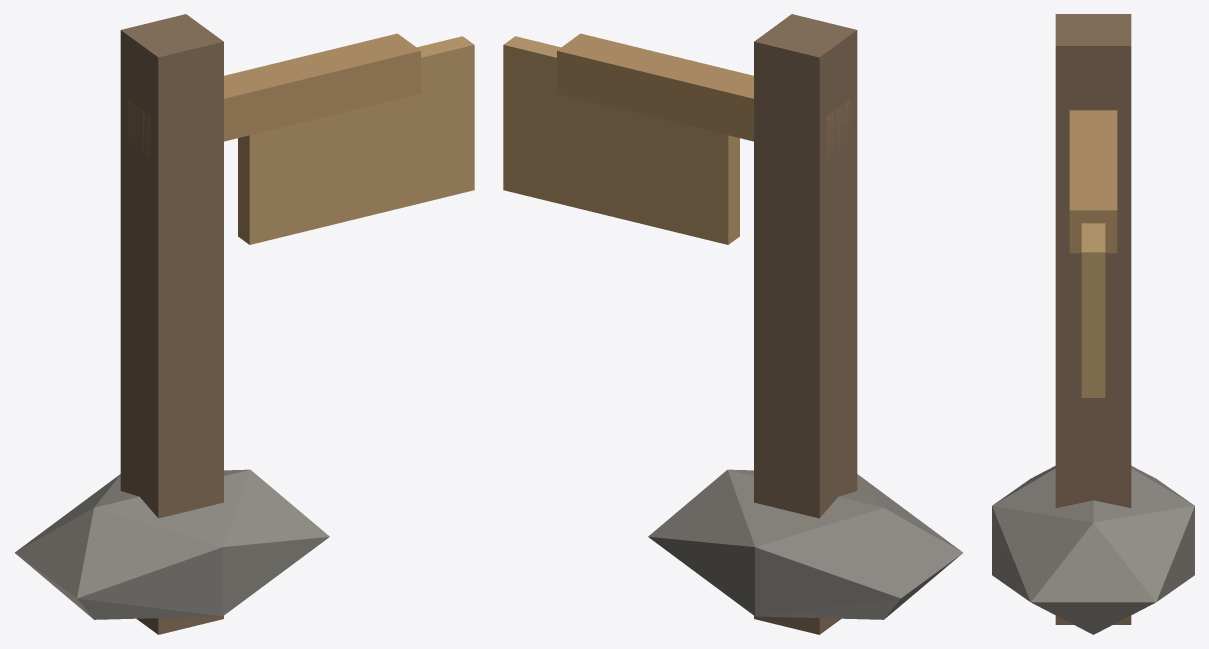
The model's file is trace-marker.glb.
3 views of the same model, side by side, from view 1: azimuth 30°, elevation 25°; view 2: azimuth 150°, elevation 25°; view 3: azimuth 270°, elevation 25° (orthographic).
Parts seen in each view (by area): view 1: world; view 2: world; view 3: world.
Boxes of the visible parts, x1,y1,x2,y2 form: world: [15, 14, 474, 634]; world: [503, 14, 962, 634]; world: [992, 14, 1194, 634].
Size of the model in its own units: 1.03 by 1.35 by 0.4287.
